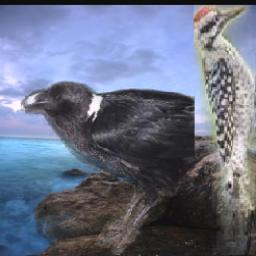Crow: (20, 80, 194, 255)
Woodpecker: (193, 6, 256, 256)
